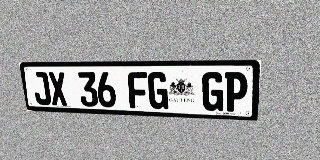3: (78, 72, 98, 107)
6: (96, 72, 117, 107)
F: (127, 72, 148, 109)
G: (202, 72, 224, 111), (147, 72, 168, 109)
J: (31, 72, 52, 105)
P: (224, 72, 248, 112)
X: (48, 72, 68, 106)
